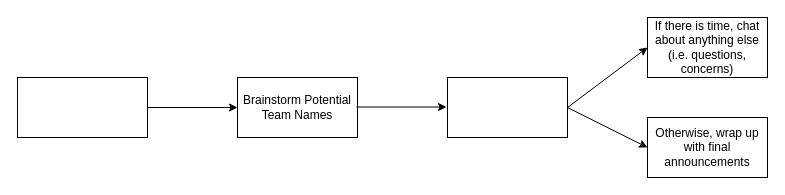
This 785x195 diagram has some shape labels left out. The centre of each missing label's shape, as x and y in pixels:
Brainstorm Team Logos/Create Potential Logos: the point at 507,107
Check-in/Introductions: the point at 82,107
